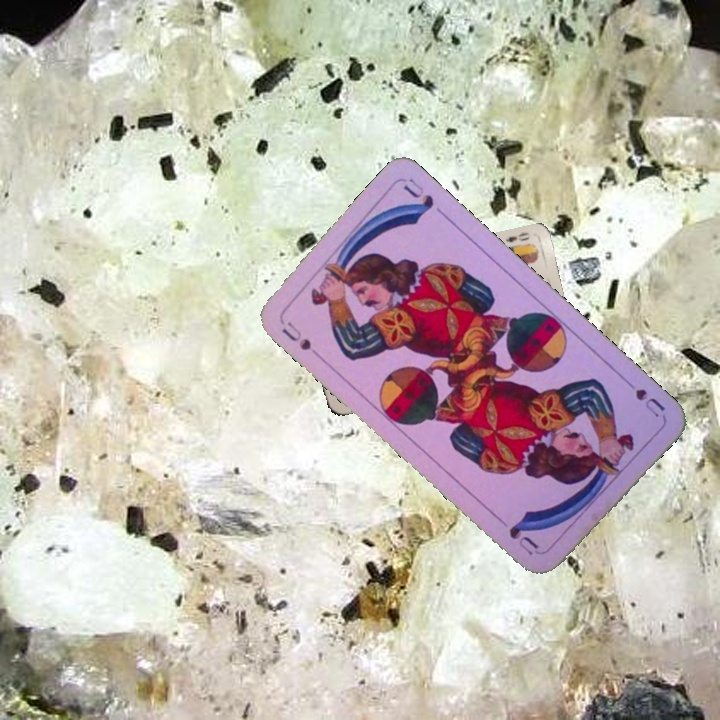EO: (501, 228, 531, 245)
SU: (618, 373, 668, 420), (277, 315, 324, 361)
